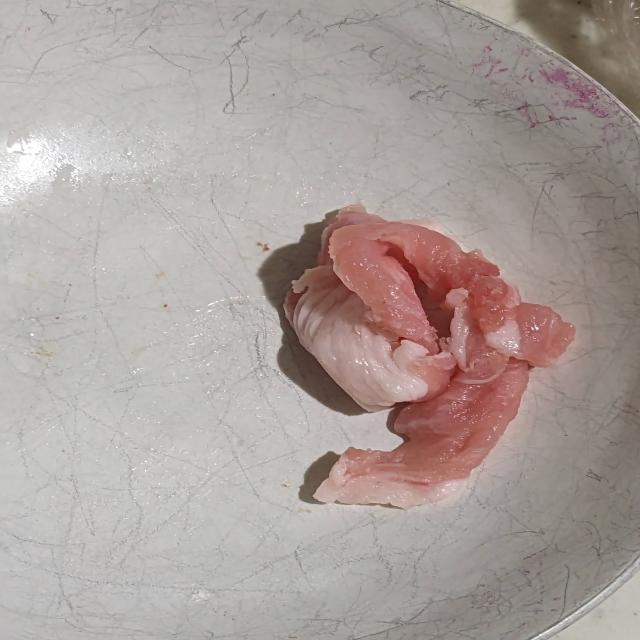NG raw pork,: (271, 195, 588, 516)
